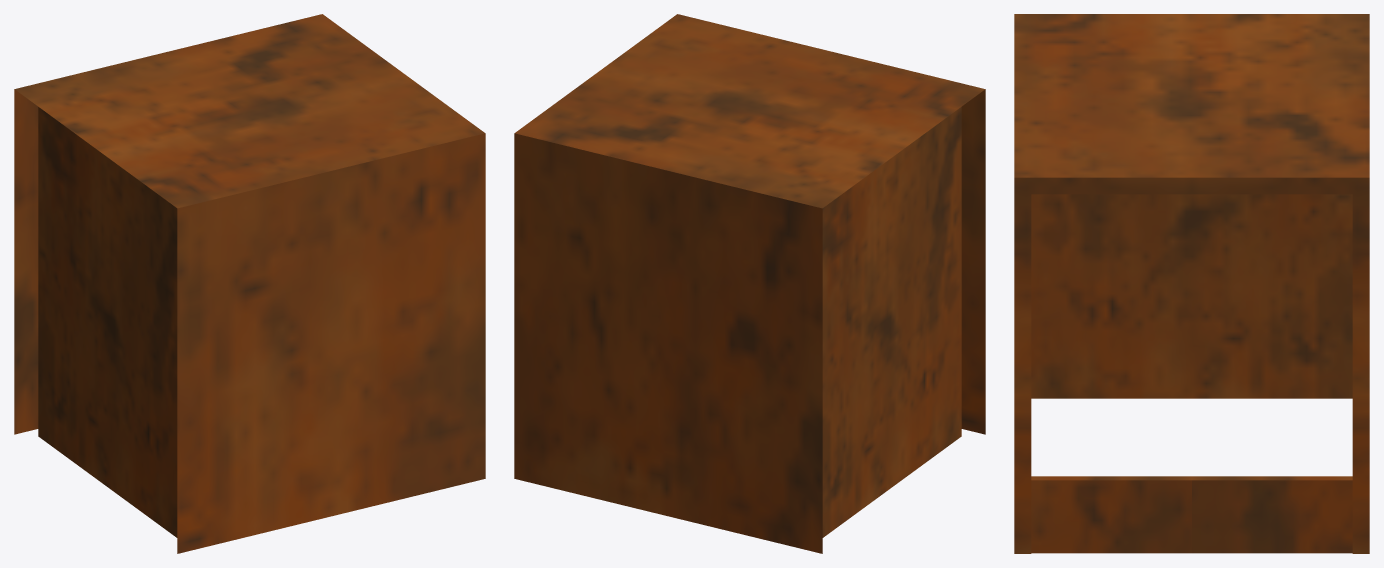
Rendered from NightStand_SM.fbx.
3 renders of one model, left to right at view 1: azimuth 30°, elevation 25°; view 2: azimuth 150°, elevation 25°; view 3: azimuth 270°, elevation 25°, orthographic. The views are drawn at different scales.
Visible parts, largest first — view 1: Desk001; view 2: Desk001; view 3: Desk001.
Part boxes in pixels (<box>): Desk001: <box>14,14,485,553</box>; Desk001: <box>514,14,985,553</box>; Desk001: <box>1014,14,1369,553</box>.
Size of the model in its own units: 75.72 by 81.14 by 69.38.
